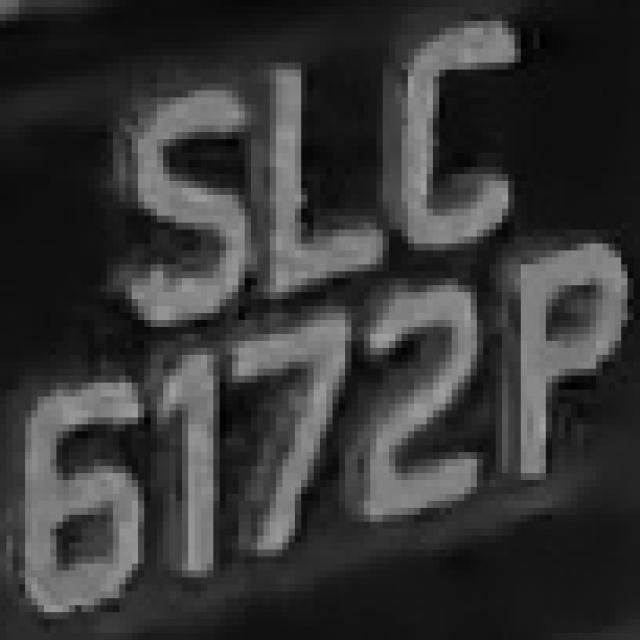1: (144, 341, 238, 612)
2: (345, 264, 496, 536)
6: (12, 355, 150, 612)
7: (207, 320, 364, 584)
C: (383, 7, 546, 278)
L: (238, 49, 396, 299)
P: (502, 223, 621, 494)
S: (107, 69, 251, 334)
